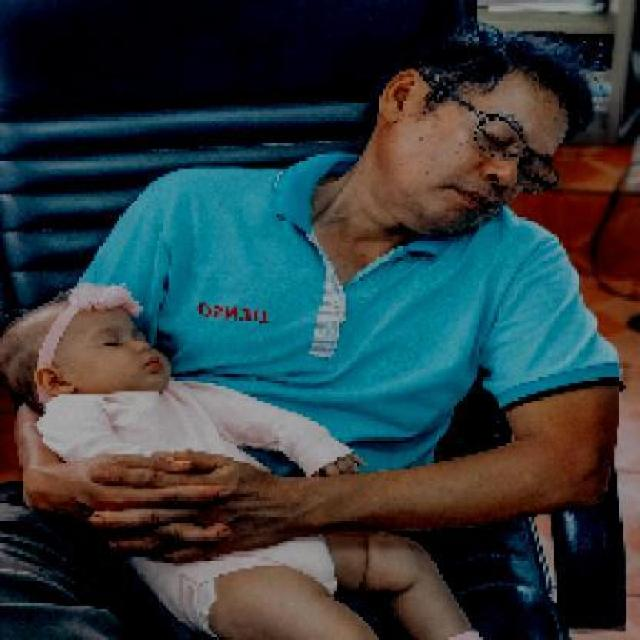child: (2, 282, 488, 638)
